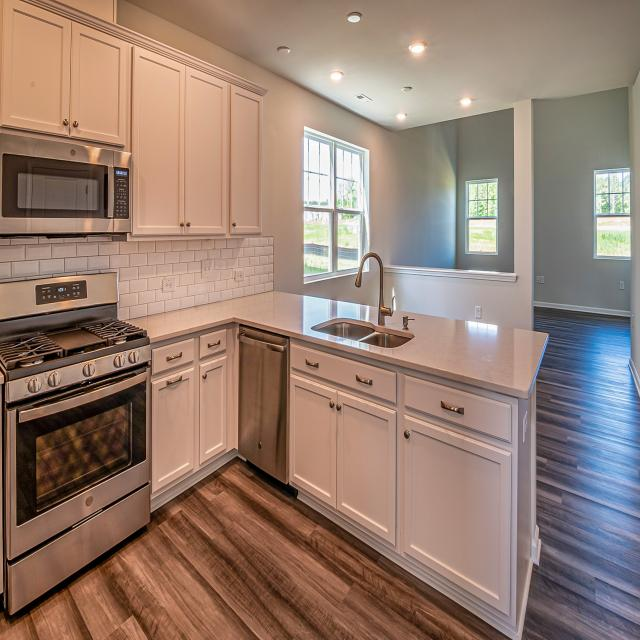Appliance_Dishwasher: (238, 328, 290, 484)
Appliance_Microwave: (0, 133, 131, 237)
Appliance_Oven: (0, 270, 151, 619)
Appliance_Sink: (311, 317, 414, 348), (355, 253, 392, 316)
Cabinet_Flat: (292, 348, 513, 441), (152, 330, 229, 373)
Cabinet_Shaker: (0, 0, 259, 235), (288, 376, 511, 600), (150, 356, 231, 491)
Countertop_Granite: (123, 292, 548, 391)
